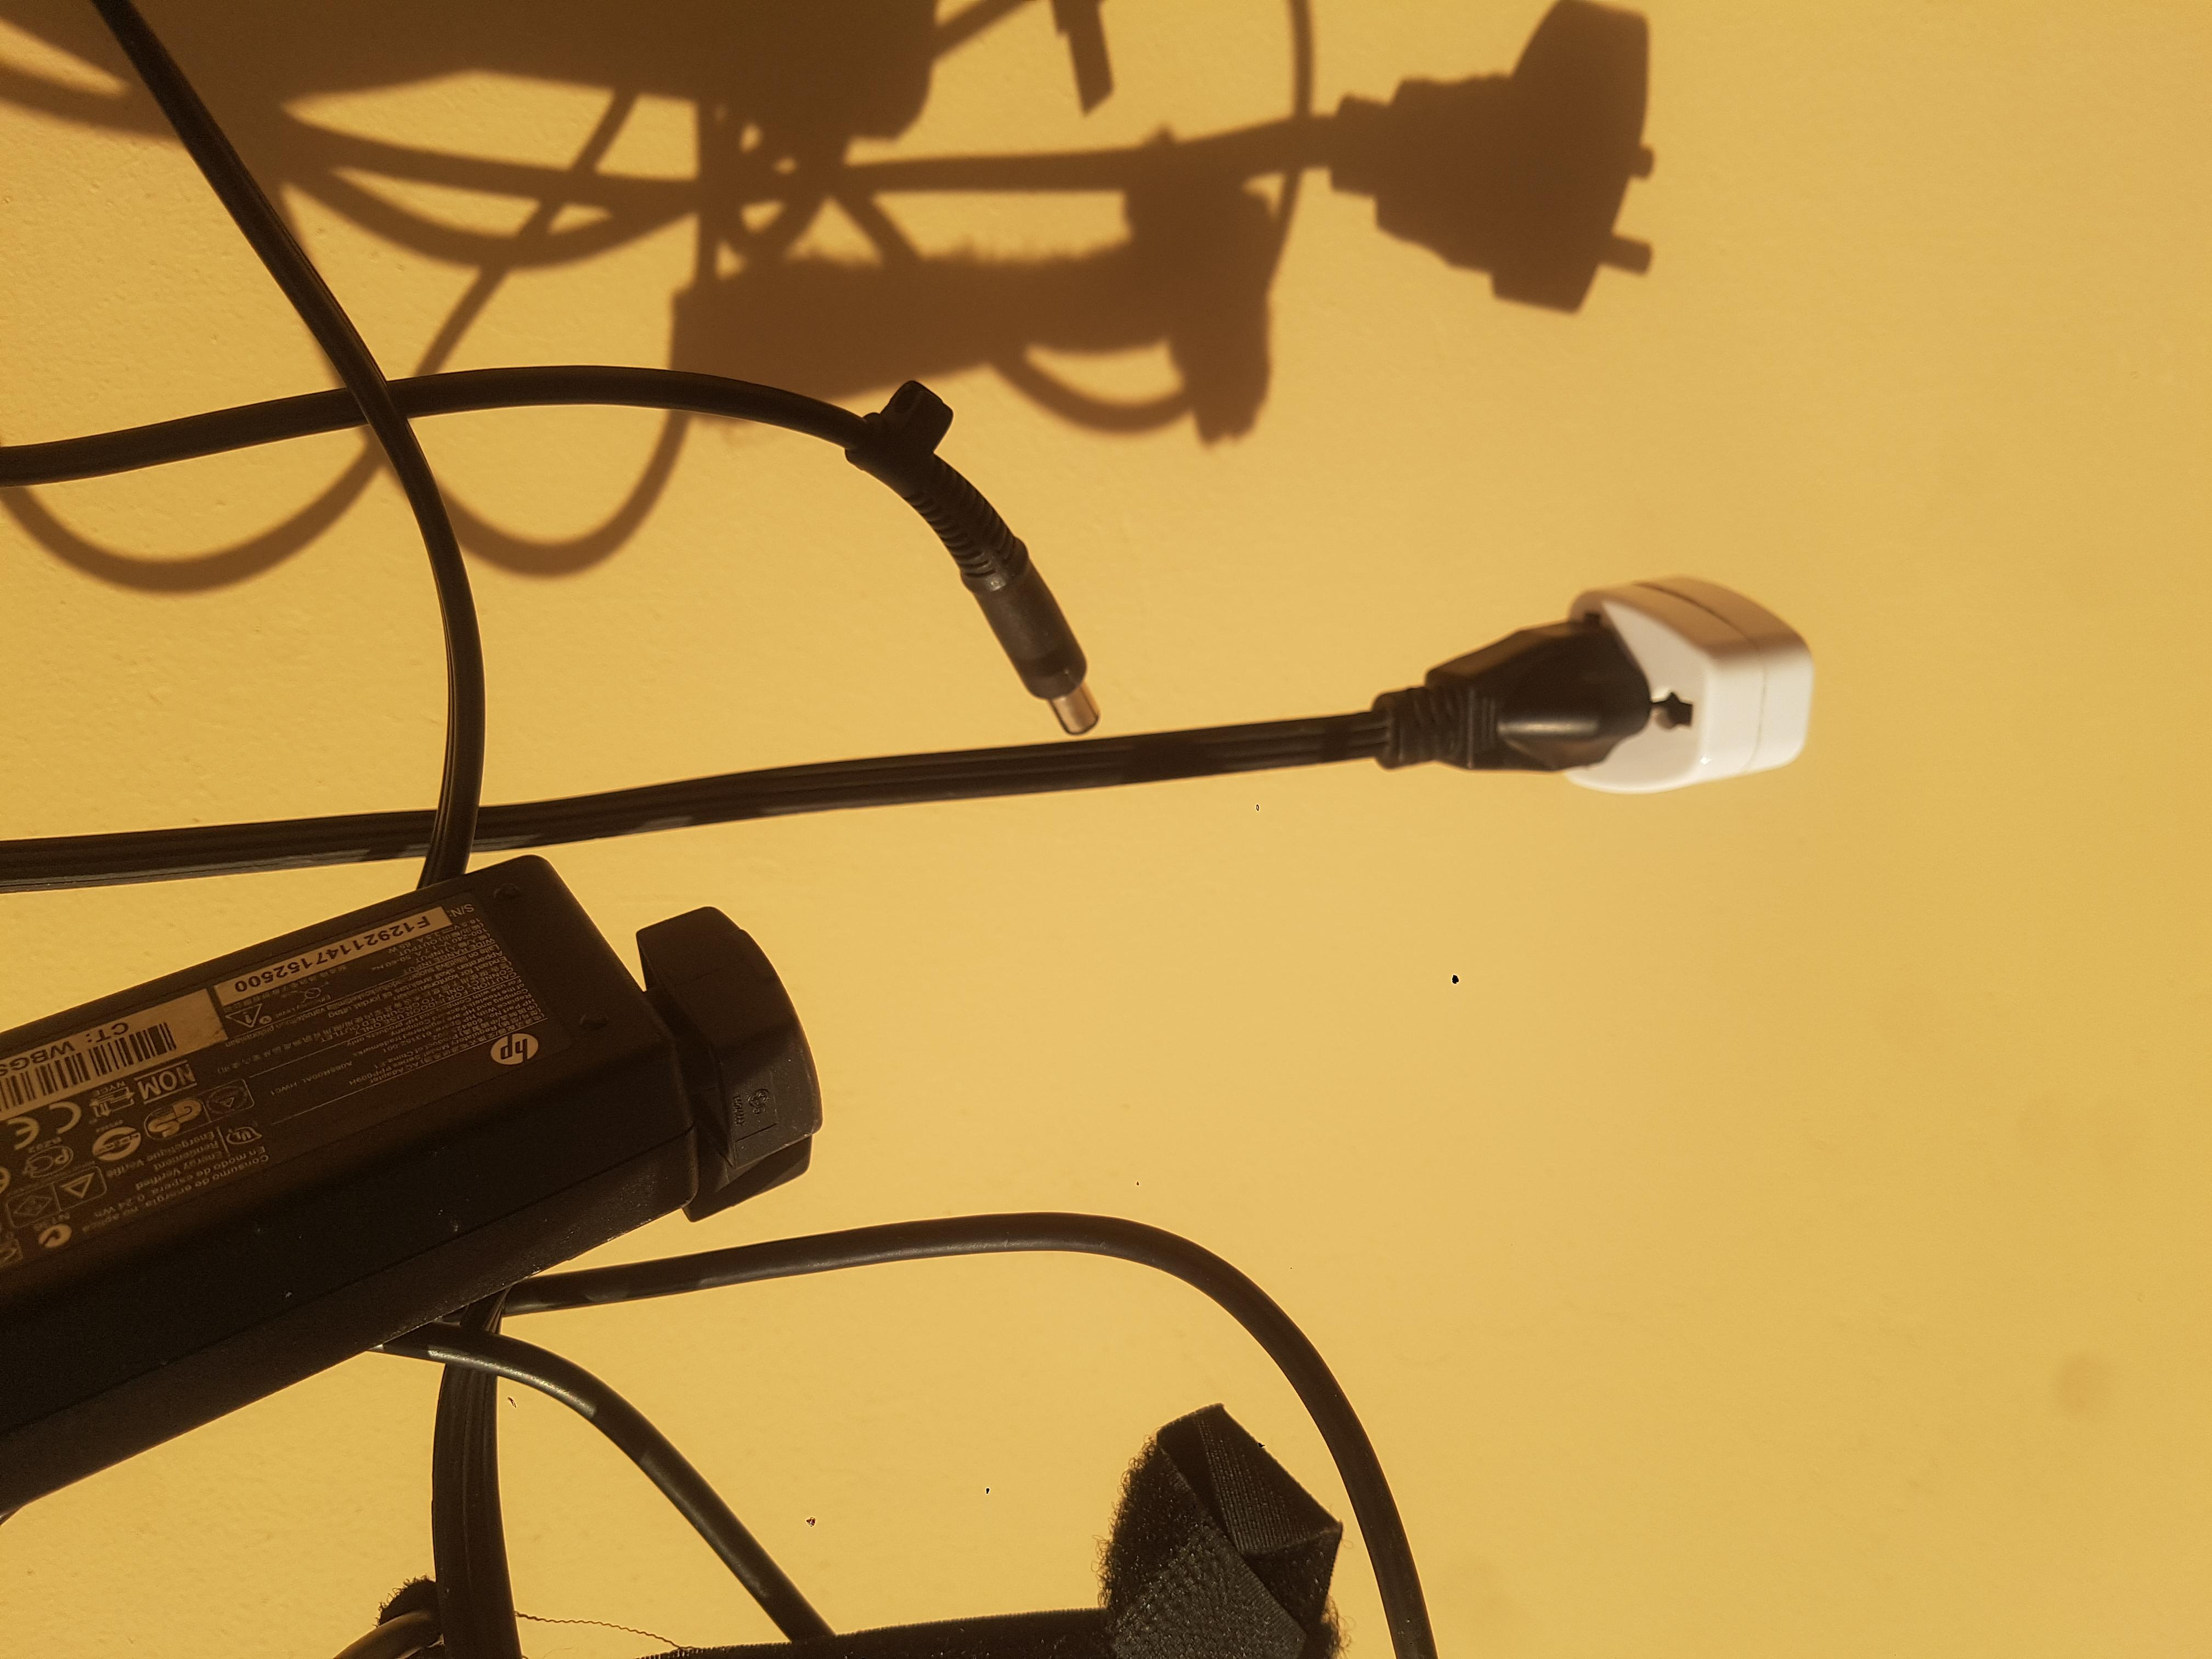electronic: (0, 7, 2111, 1340)
